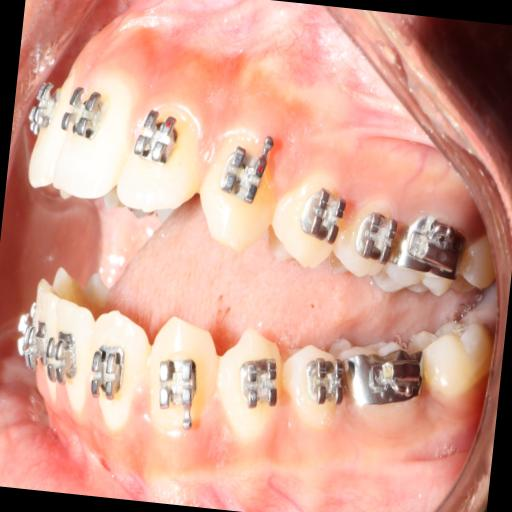correct_brace: (268, 164, 350, 288), (212, 322, 290, 441), (210, 146, 274, 210), (55, 76, 110, 150), (130, 104, 186, 171), (151, 349, 202, 418), (234, 348, 285, 415), (86, 337, 131, 406)
incorrect_brace: (118, 89, 210, 226), (83, 304, 151, 431), (300, 190, 349, 244)
